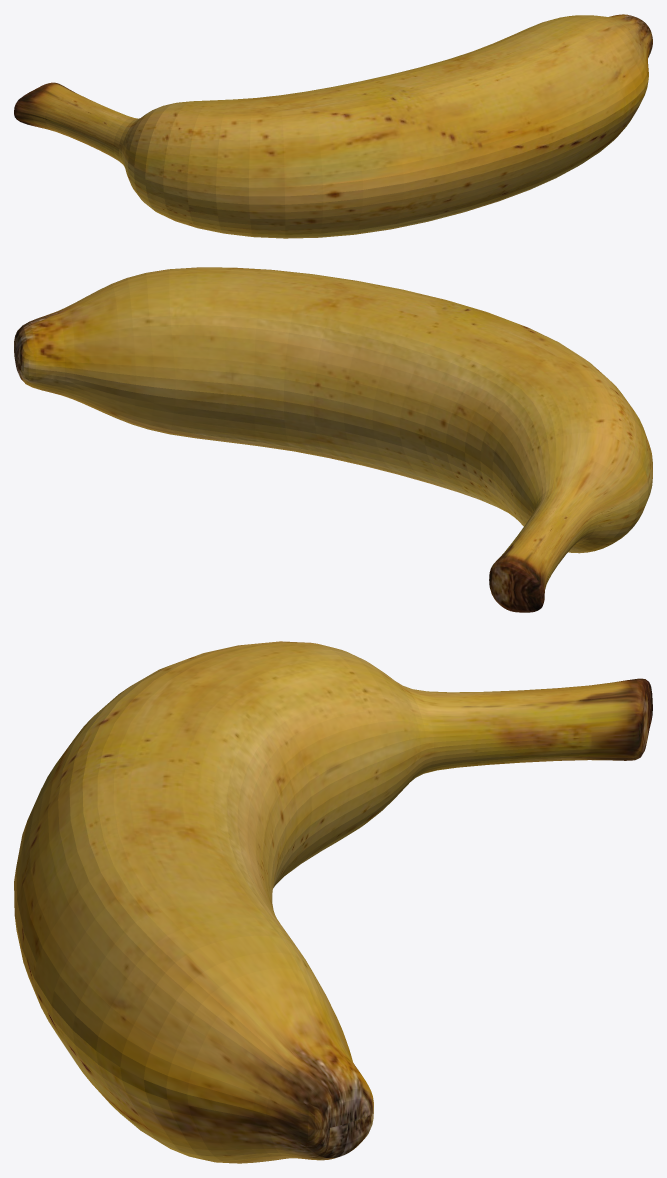
Rendered from Banana.obj.
3 renders of one model, top to bottom at view 1: azimuth 30°, elevation 25°; view 2: azimuth 150°, elevation 25°; view 3: azimuth 270°, elevation 25°, orthographic. The views are drawn at different scales.
Visible parts, largest first — view 1: Banana; view 2: Banana; view 3: Banana.
Part boxes in pixels (<box>): Banana: <box>14,14,652,238</box>; Banana: <box>14,267,652,612</box>; Banana: <box>14,641,652,1163</box>.
Size of the model in its own units: 226 by 52.35 by 134.
